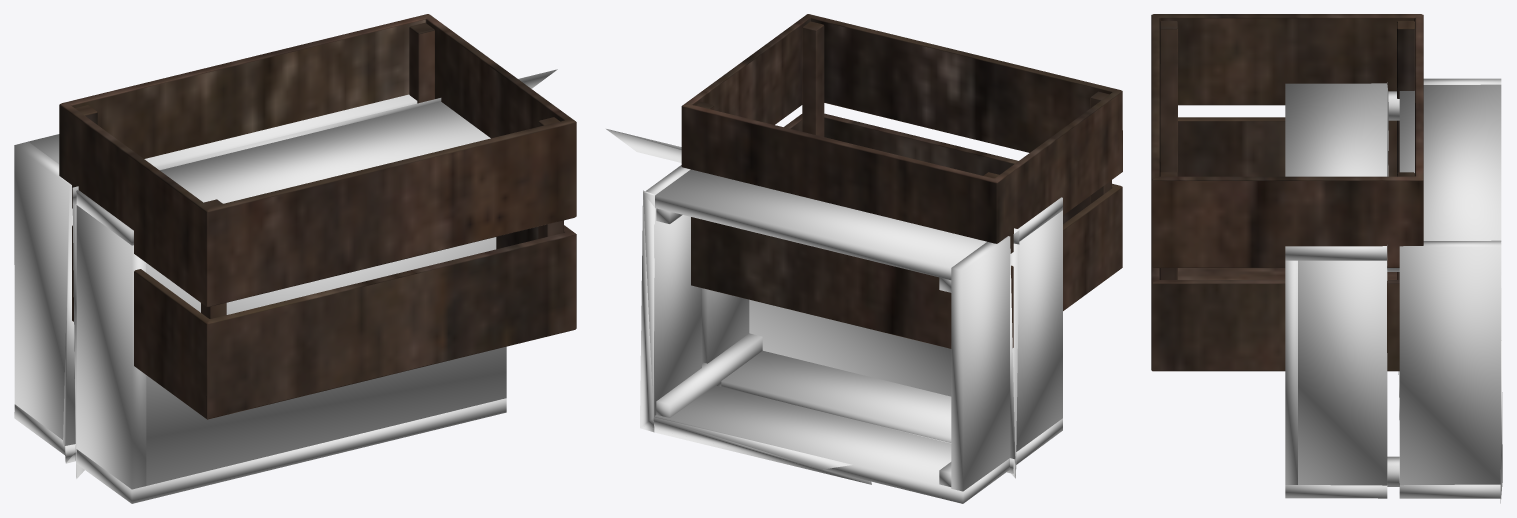
The picture shows the model from 3 angles, left to right: view 1: azimuth 30°, elevation 25°; view 2: azimuth 150°, elevation 25°; view 3: azimuth 270°, elevation 25°; orthographic projection. The views are drawn at different scales.
Parts seen in each view (by area): view 1: SM_Box_01, SM_Box_01_ConvexHulls; view 2: SM_Box_01_ConvexHulls, SM_Box_01; view 3: SM_Box_01_ConvexHulls, SM_Box_01.
Boxes of the visible parts, bbox=[...] form: SM_Box_01: bbox=[59, 14, 576, 419]; SM_Box_01_ConvexHulls: bbox=[14, 69, 557, 503]; SM_Box_01_ConvexHulls: bbox=[606, 129, 1062, 503]; SM_Box_01: bbox=[681, 14, 1122, 348]; SM_Box_01_ConvexHulls: bbox=[1285, 78, 1502, 503]; SM_Box_01: bbox=[1151, 14, 1423, 371].
Size of the model in its own units: 0.8563 by 0.6056 by 0.5805.
